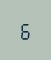six: (19, 19, 29, 40)
